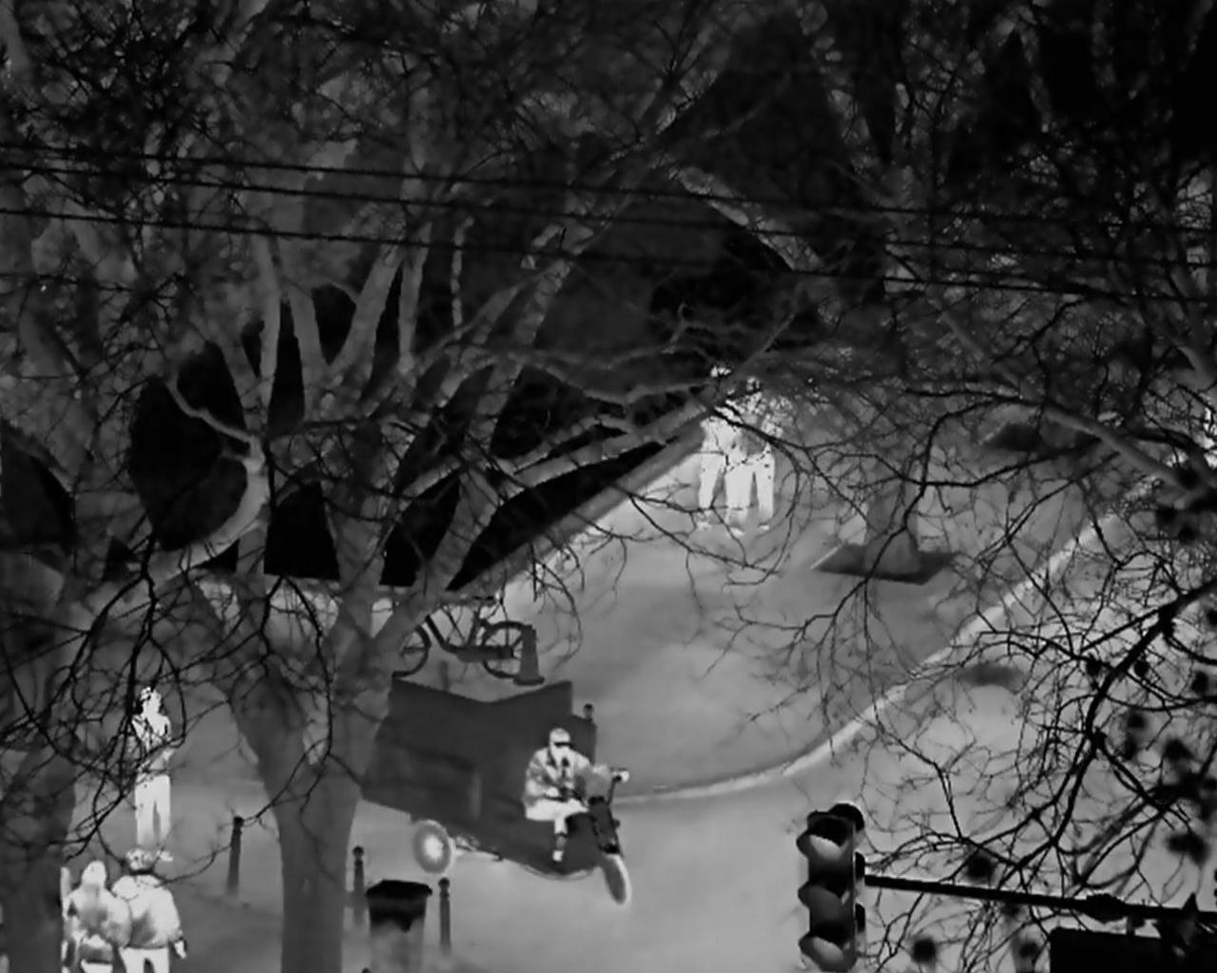person: (521, 726, 630, 863), (113, 849, 188, 973), (127, 687, 175, 864), (69, 858, 127, 973), (696, 403, 740, 532), (733, 413, 777, 534)
